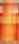cylinder: (1, 1, 19, 44)
